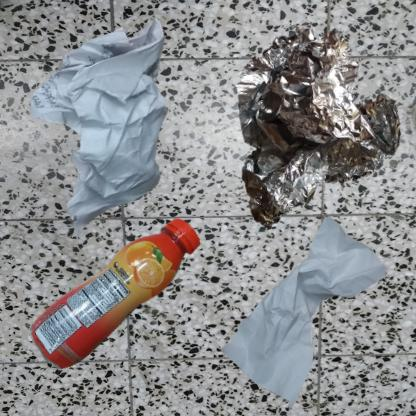aluminio: (213, 10, 416, 243)
botella: (10, 213, 275, 409)
papel: (10, 10, 230, 259), (213, 213, 395, 416)
